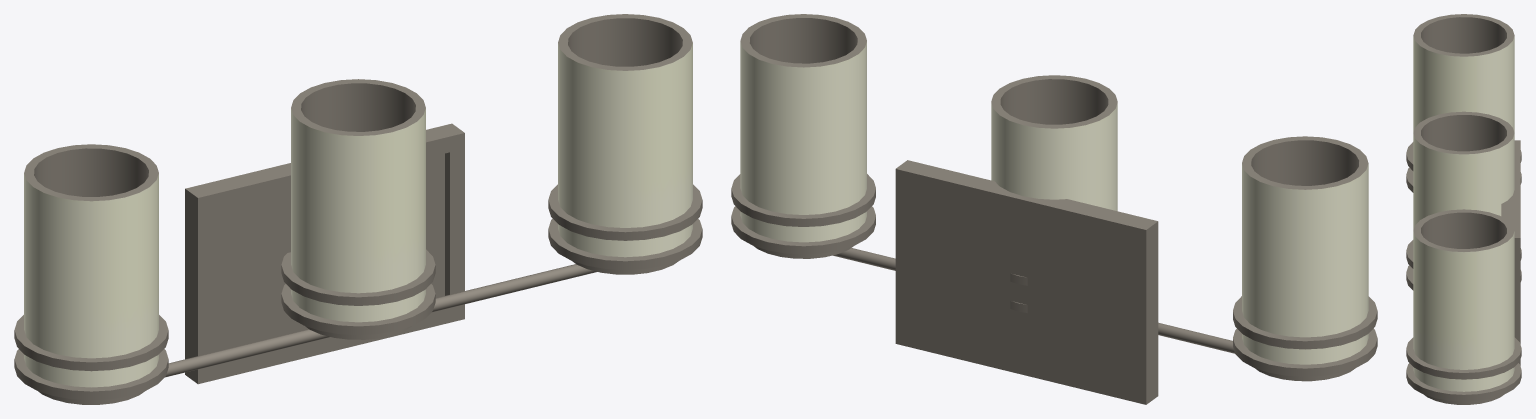
Rendered from light-2.glb.
3 renders of one model, left to right at view 1: azimuth 30°, elevation 25°; view 2: azimuth 150°, elevation 25°; view 3: azimuth 270°, elevation 25°, orthographic. The views are drawn at different scales.
Parts seen in each view (by area): view 1: 3DGeom-3; view 2: 3DGeom-3; view 3: 3DGeom-3.
Boxes of the visible parts, box(x1,y1,x2,y2) form: 3DGeom-3: box(14, 14, 702, 404); 3DGeom-3: box(731, 14, 1377, 404); 3DGeom-3: box(1406, 14, 1521, 404).
Bounding box in the file's own units: 0.6715 × 0.2518 × 0.1343.
Materials: 2 (1 with a texture image).
